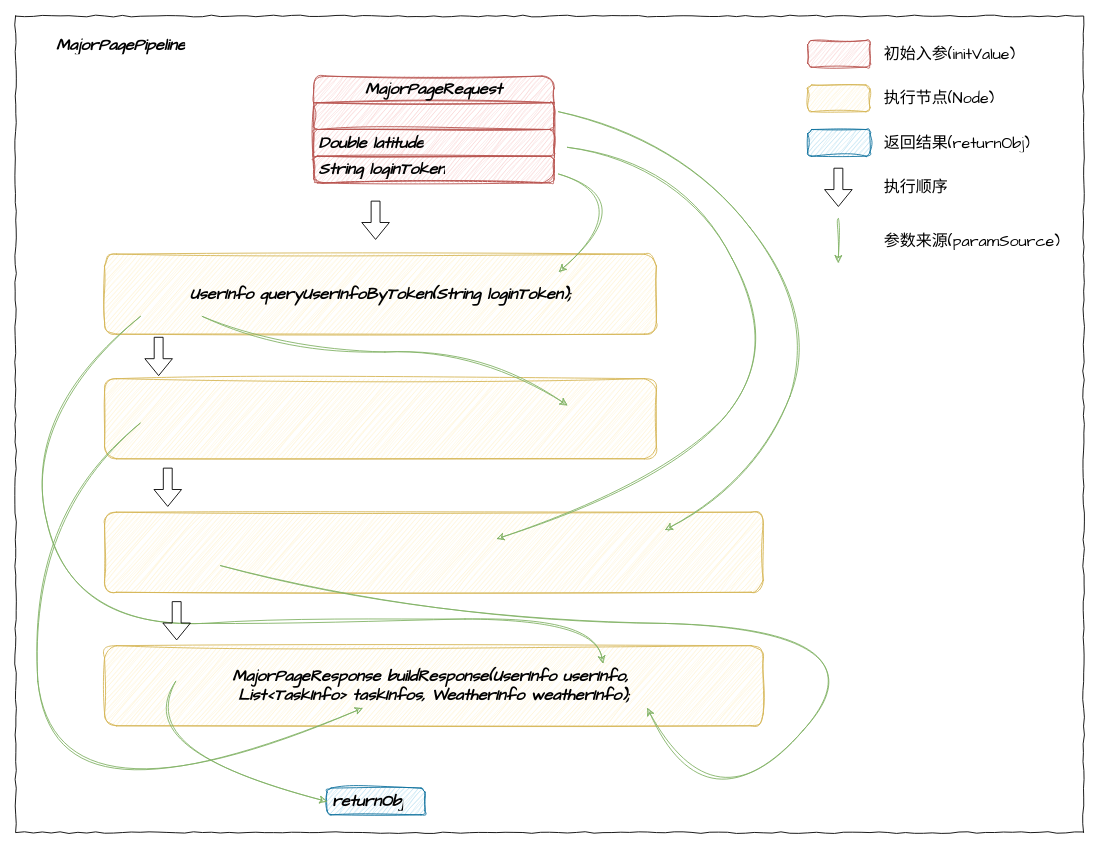
The diagram is 1099 pixels wide and 848 high, and some of its shapes have lost their labels. The shapes that lost their labels are listed below. From the top down, each one's centre as x and y in pixels, then its label:
At pixel 433 115: "Double l ongitude".
At pixel 380 418: "List<TaskInfo> queryUserTaskInfos(UserInfo user);".
At pixel 433 551: "WeatherInfo queryWeather(Double latitude, Double l ongitude );".
